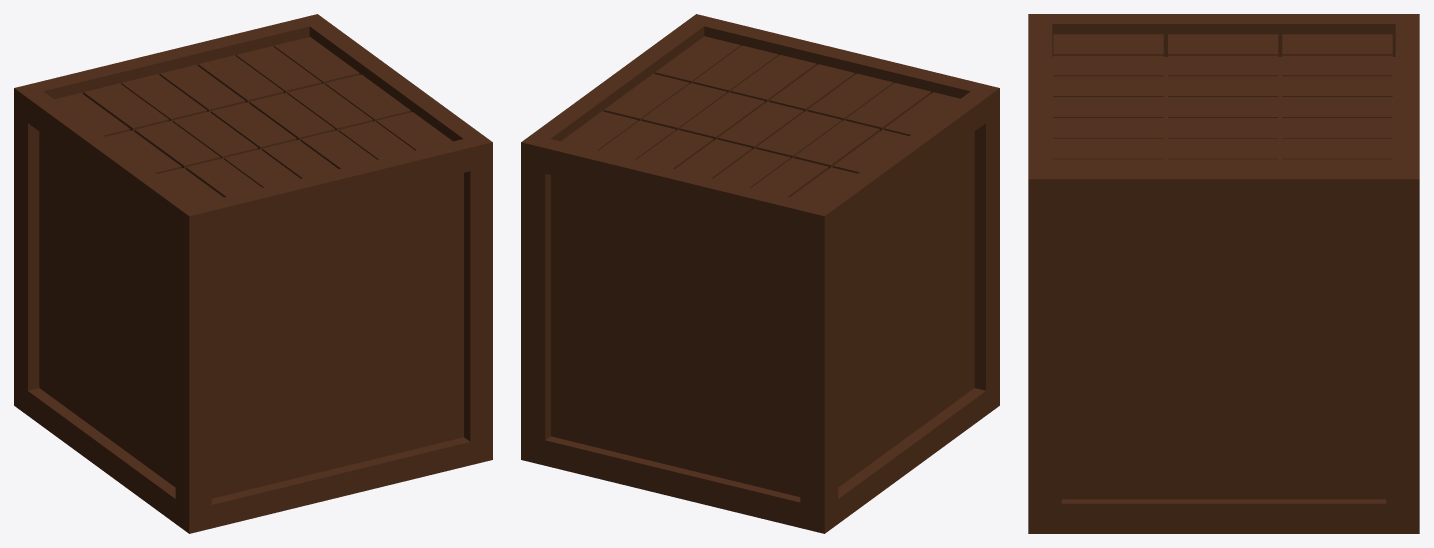
File: crate_open_01.fbx
3 renders of one model, left to right at view 1: azimuth 30°, elevation 25°; view 2: azimuth 150°, elevation 25°; view 3: azimuth 270°, elevation 25°, orthographic. The views are drawn at different scales.
Visible parts, largest first — view 1: Crate_open01.low; view 2: Crate_open01.low; view 3: Crate_open01.low.
Boxes of the visible parts, bbox=[...] form: Crate_open01.low: bbox=[14, 14, 492, 533]; Crate_open01.low: bbox=[521, 14, 999, 533]; Crate_open01.low: bbox=[1028, 14, 1419, 533].
Size of the model in its own units: 607 by 607 by 607.
